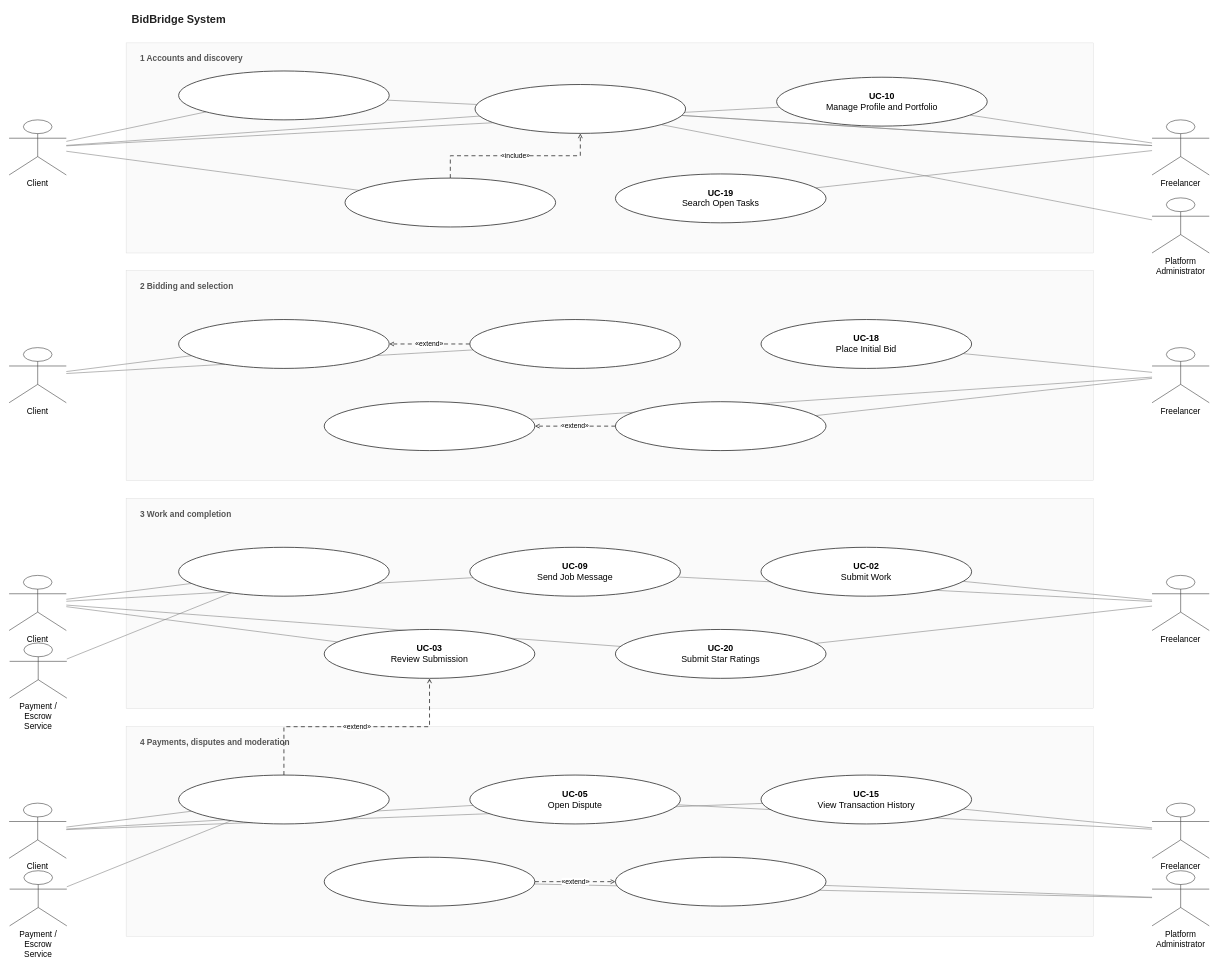
Some shapes in this 1218 by 968 pixel diagram are drawn without their labels. The centre of each missing label's shape, as x and y in pixels:
UC-01 Accept Bid and Fund Escrow: [283,571]
UC-04 Release Escrow Payment: [283,799]
UC-06 Log In: [580,109]
UC-07 View and Compare Bids: [575,344]
UC-08 Edit or Withdraw Bid: [720,426]
UC-11 View Bid Notifications: [283,344]
UC-12 View Submitted Bid History: [429,426]
UC-13 Moderate User Account: [429,881]
UC-14 Moderate Job Posting: [720,881]
UC-16 Register New Account: [283,95]
UC-17 Create Task Posting: [450,202]
